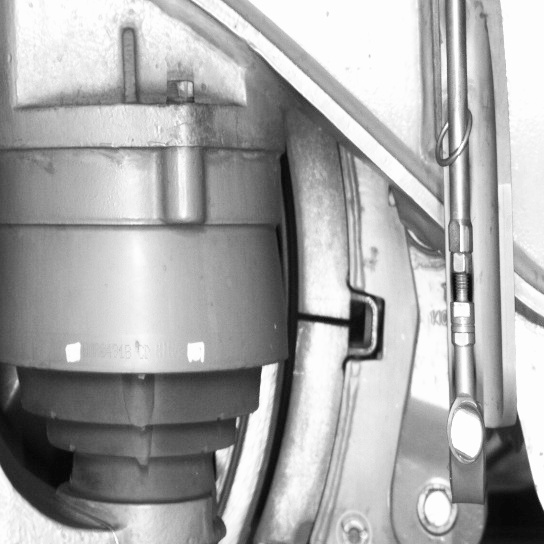KnifeSwitch: (233, 147, 362, 541)
